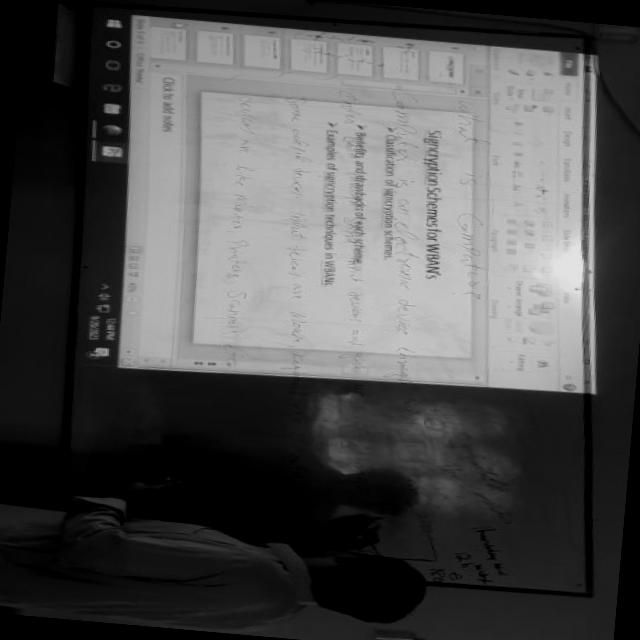Instructor: (0, 495, 430, 640)
Slide: (86, 13, 599, 395)
White-board: (56, 5, 590, 596)
